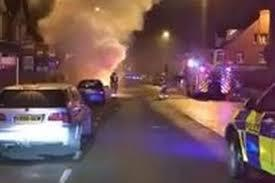smoke: (22, 0, 166, 95)
